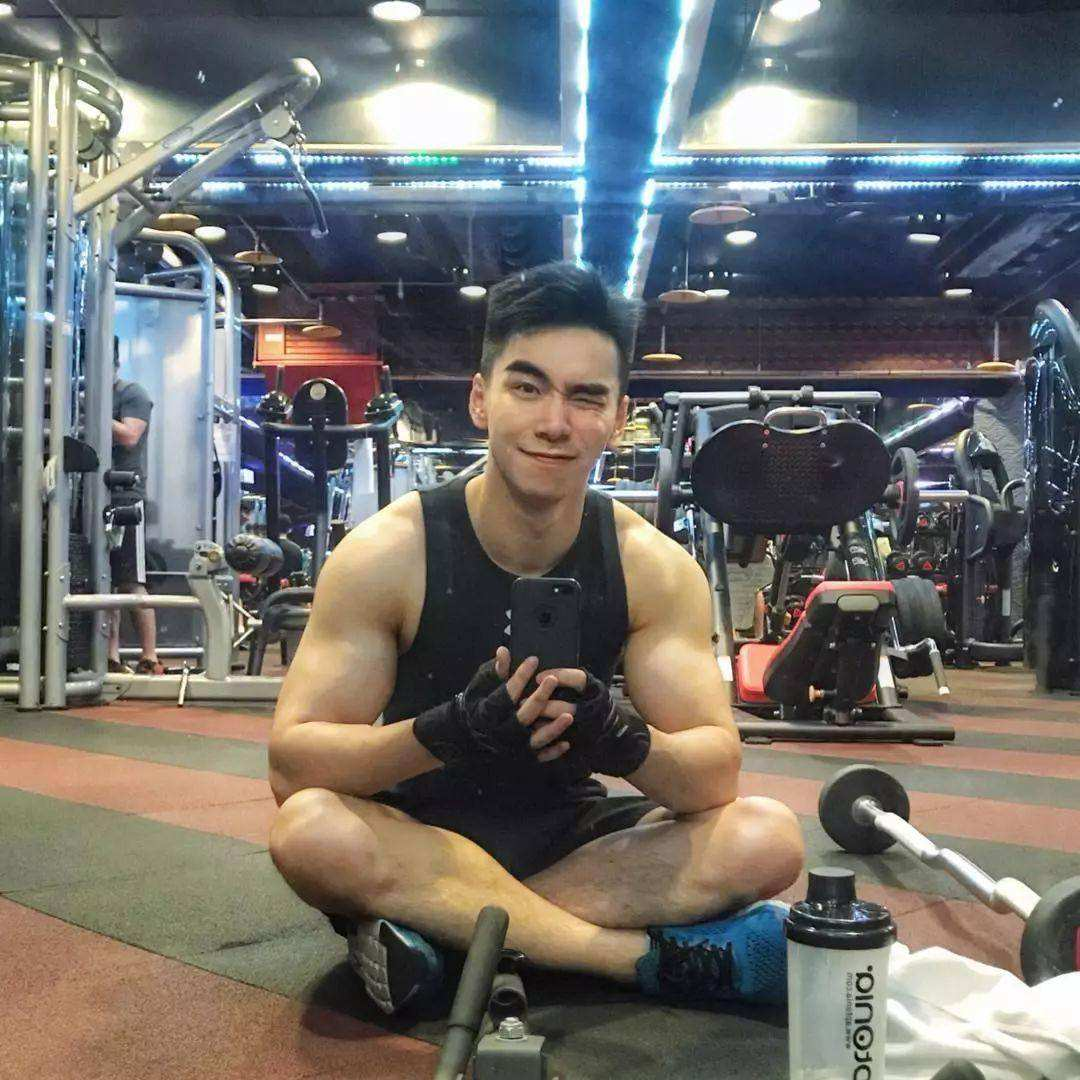person: (277, 279, 770, 1018)
